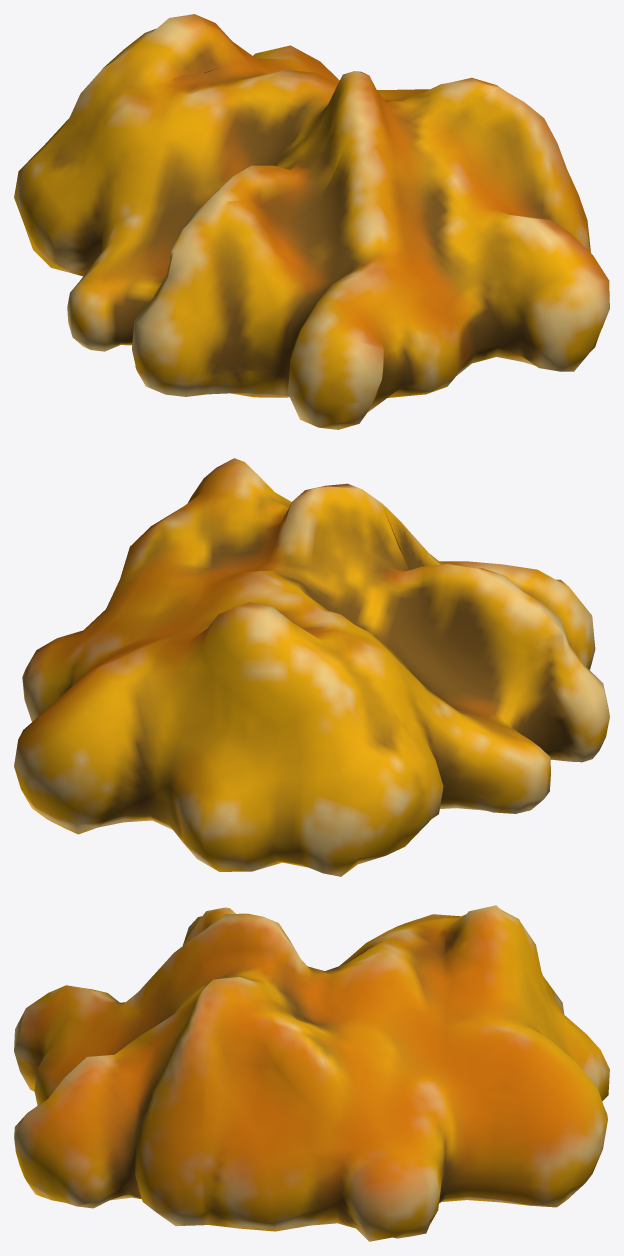
File: SM_Jelly.fbx
3 views of the same model, one above another, from view 1: azimuth 30°, elevation 25°; view 2: azimuth 150°, elevation 25°; view 3: azimuth 270°, elevation 25° (orthographic). The views are drawn at different scales.
Parts seen in each view (by area): view 1: Butter_whole; view 2: Butter_whole; view 3: Butter_whole.
Part boxes in pixels (x1=…): Butter_whole: x1=14, y1=14, x2=609, y2=429; Butter_whole: x1=14, y1=458, x2=609, y2=876; Butter_whole: x1=14, y1=905, x2=609, y2=1241.
Size of the model in its own units: 20.49 by 10.79 by 22.84.
